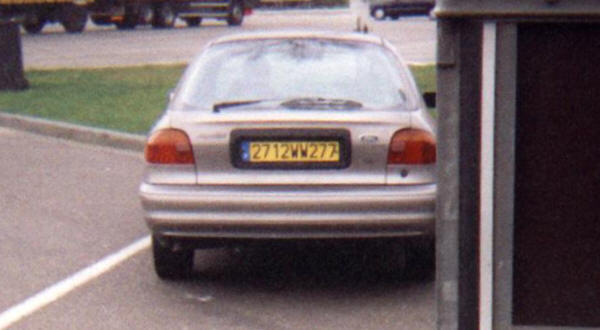license_plate: (238, 139, 343, 164)
